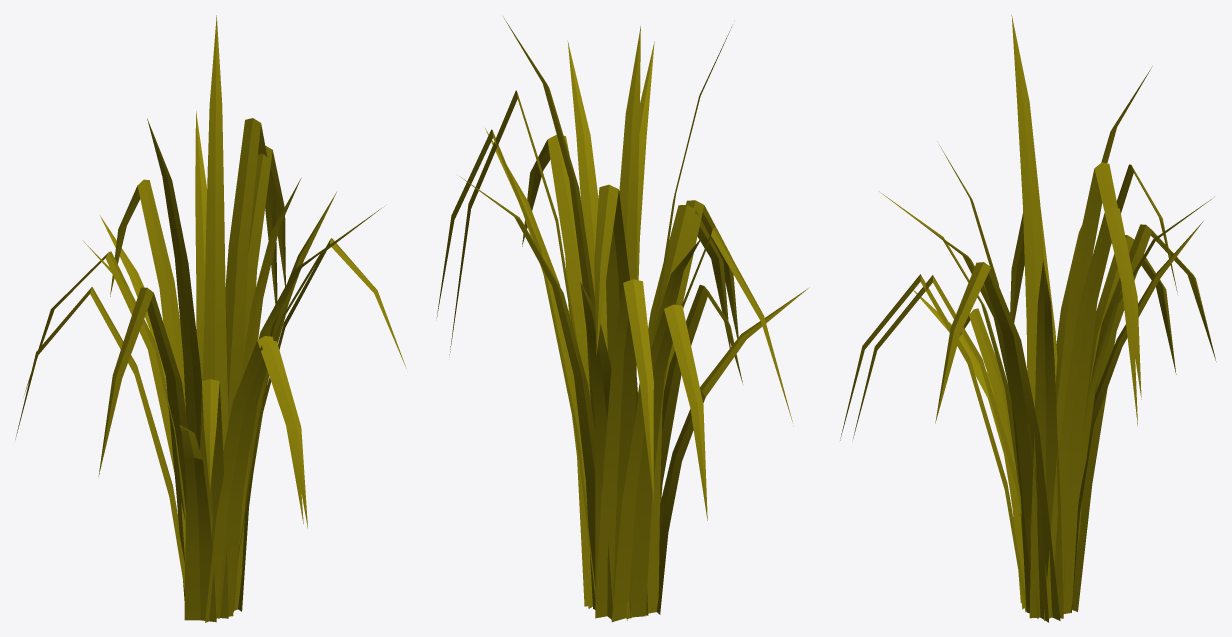
Rendered from GrassCluster2.fbx.
3 views of the same model, side by side, from view 1: azimuth 30°, elevation 25°; view 2: azimuth 150°, elevation 25°; view 3: azimuth 270°, elevation 25° (orthographic). The views are drawn at different scales.
Parts seen in each view (by area): view 1: Grass_Cluster_2_2, Grass_Cluster_1_2, Grass_Cluster_3_2; view 2: Grass_Cluster_1_2, Grass_Cluster_2_2, Grass_Cluster_3_2; view 3: Grass_Cluster_1_2, Grass_Cluster_3_2, Grass_Cluster_2_2.
Boxes of the visible parts, left/top/right/bottom form: Grass_Cluster_2_2: left=82, top=15, right=406, bottom=622; Grass_Cluster_1_2: left=15, top=111, right=336, bottom=618; Grass_Cluster_3_2: left=98, top=145, right=384, bottom=612; Grass_Cluster_1_2: left=449, top=26, right=742, bottom=621; Grass_Cluster_2_2: left=503, top=17, right=809, bottom=619; Grass_Cluster_3_2: left=436, top=41, right=792, bottom=620; Grass_Cluster_1_2: left=937, top=15, right=1216, bottom=618; Grass_Cluster_3_2: left=853, top=207, right=1203, bottom=622; Grass_Cluster_2_2: left=840, top=66, right=1177, bottom=620.
Size of the model in its own units: 36.06 by 67.63 by 40.57.
1 material, 1 textured.
